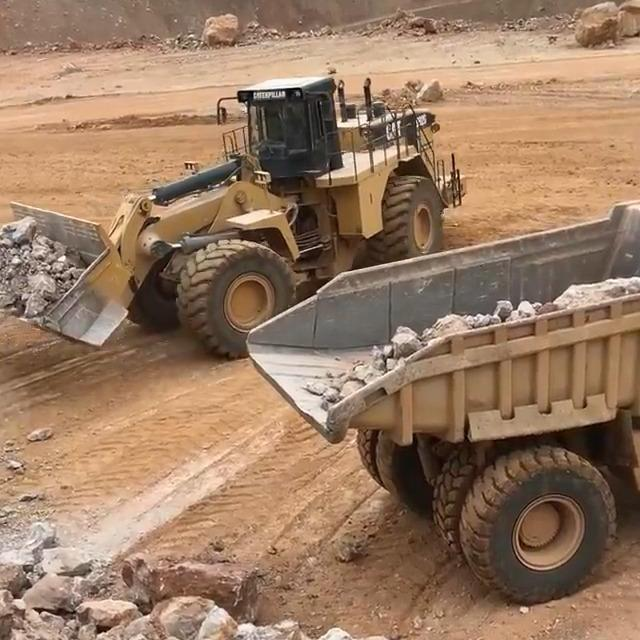dump truck: (245, 172, 640, 608)
wheel loader: (0, 71, 470, 364)
